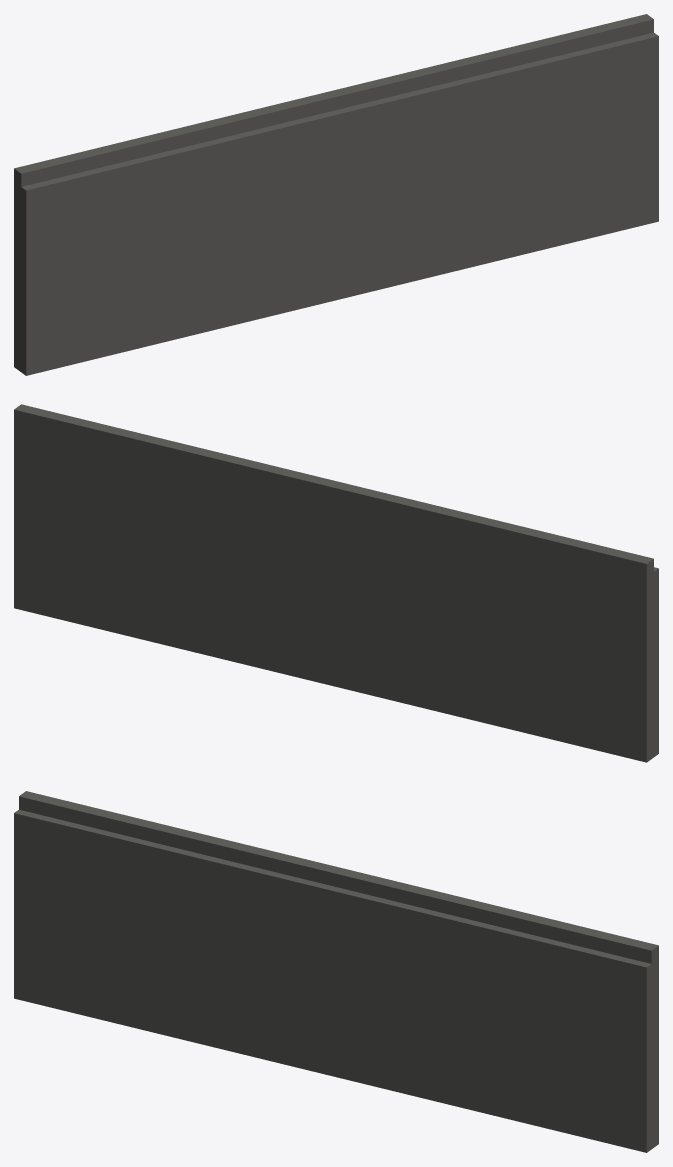
The model's file is plinth.glb.
3 renders of one model, top to bottom at view 1: azimuth 30°, elevation 25°; view 2: azimuth 150°, elevation 25°; view 3: azimuth 330°, elevation 25°, orthographic.
Visible parts, largest first — view 1: plinth; view 2: plinth; view 3: plinth.
Boxes of the visible parts, <box> form: plinth: <box>14,14,658,375</box>; plinth: <box>14,404,658,762</box>; plinth: <box>14,791,658,1152</box>.
Bounding box in the file's own units: 1.5 × 0.45 × 0.05.
1 material, 1 textured.
